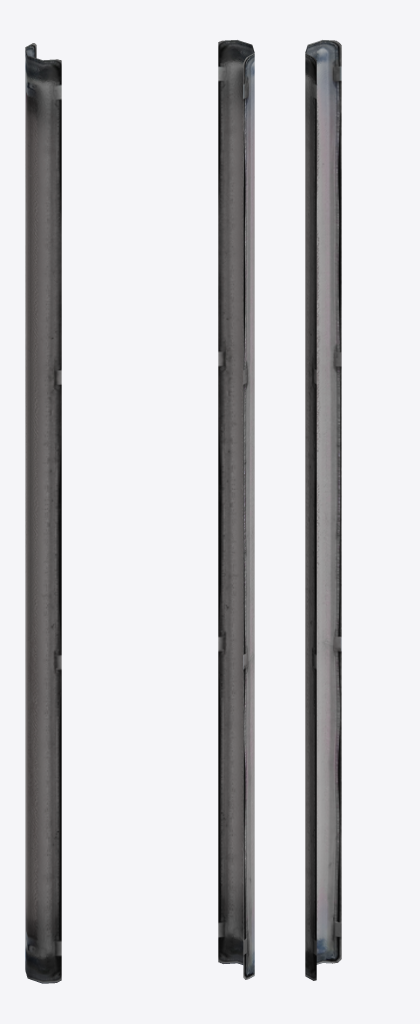
The model's file is LIT_VerticalTall.FBX.
3 views of the same model, side by side, from view 1: azimuth 30°, elevation 25°; view 2: azimuth 210°, elevation 25°; view 3: azimuth 330°, elevation 25° (orthographic).
Parts seen in each view (by area): view 1: LIT_VerticalTall; view 2: LIT_VerticalTall; view 3: LIT_VerticalTall.
Part boxes in pixels (box(x1,y1,x2,y2)): LIT_VerticalTall: box(25, 43, 61, 983); LIT_VerticalTall: box(218, 40, 254, 979); LIT_VerticalTall: box(305, 40, 341, 980).
Bounding box in the file's own units: 16.94 × 150 × 10.
1 material, 1 textured.
